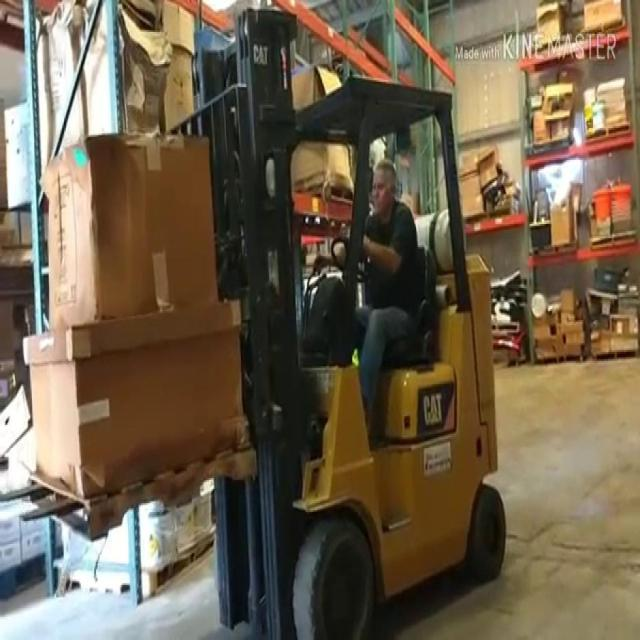forklift: (188, 5, 508, 638)
person: (328, 126, 443, 470)
